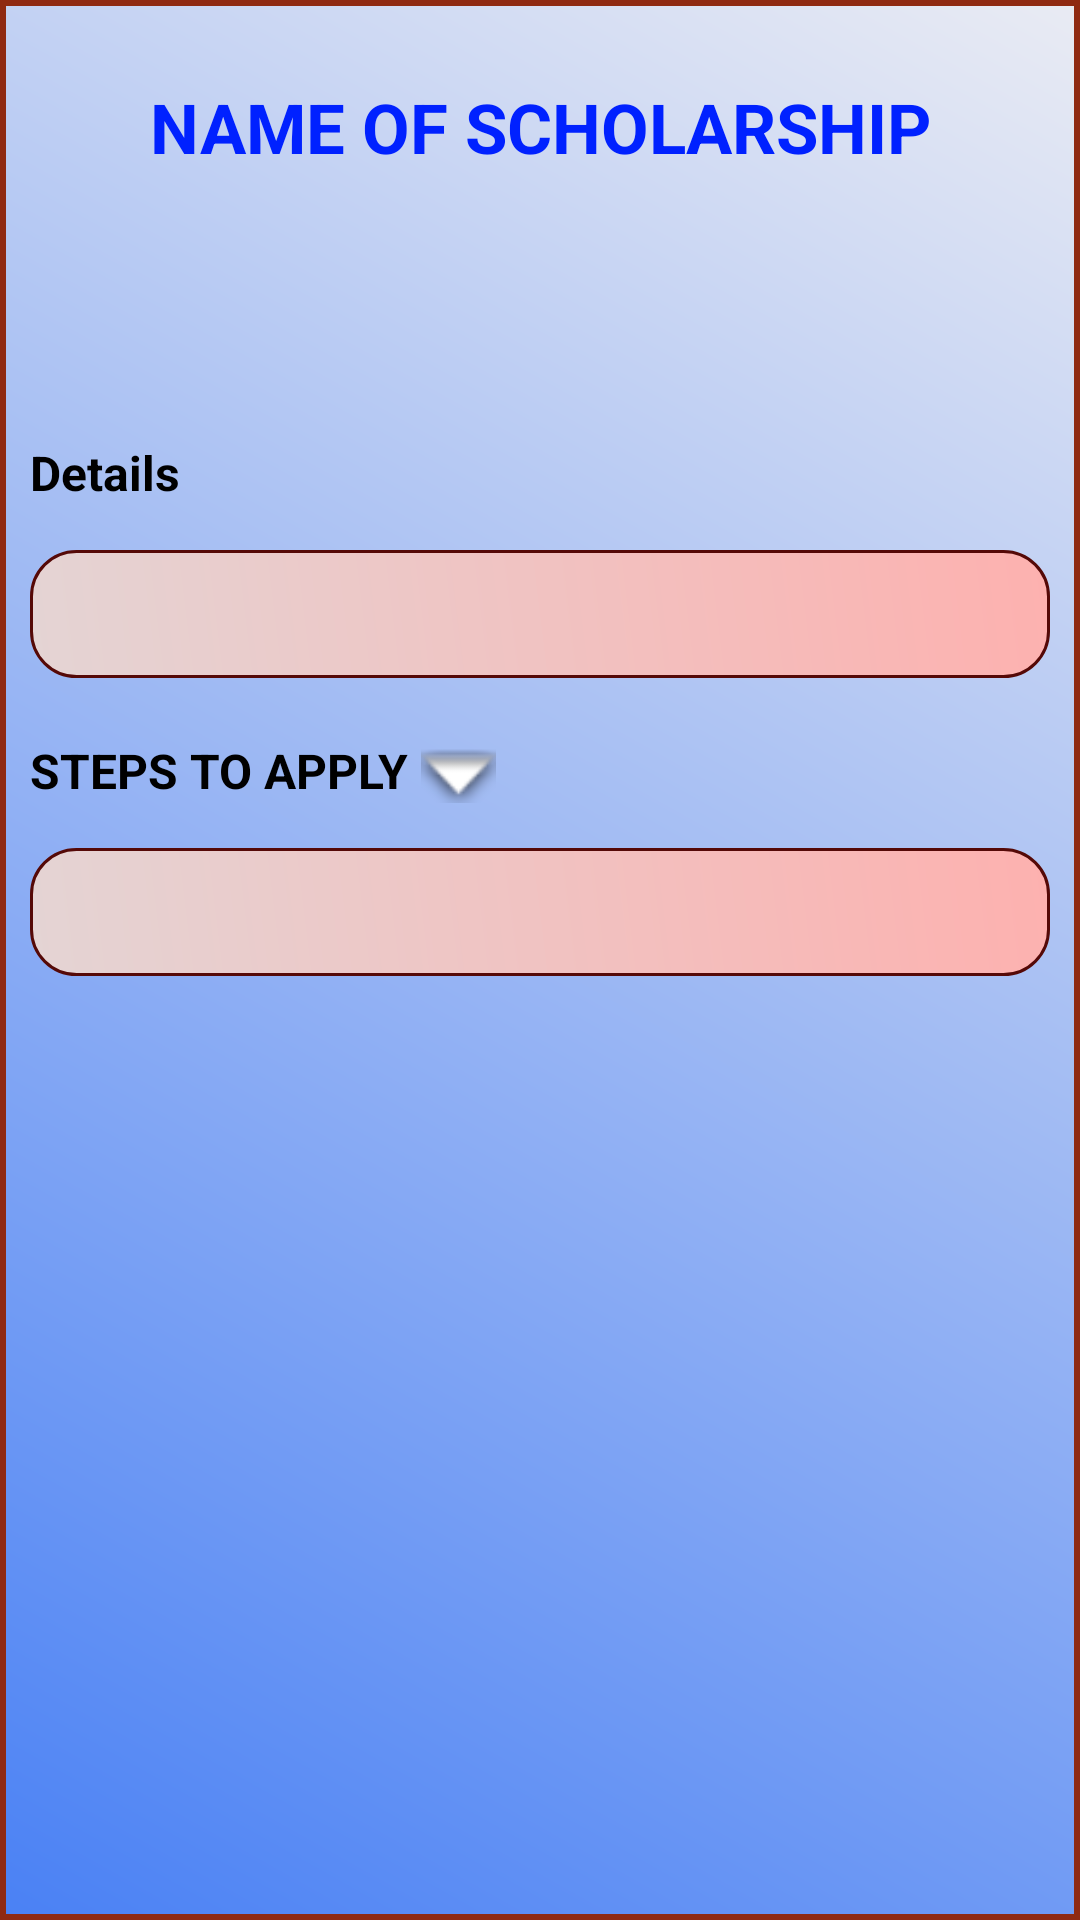

Locate icon controls on the screen. Image size 1080*1920, boxes as (x1, y1, x2, y2).
arrow down float: (421, 751, 496, 802)
